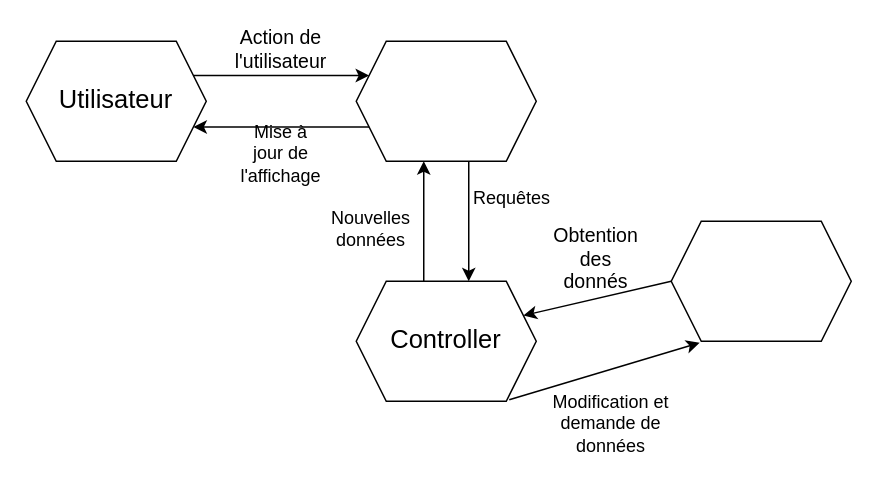
Image size: 878x482. Some labels were removed from this diagram. The box of each missing label's shape, as (x1, y1, x2, y2) in pixels:
Modèle: (670, 220, 851, 341)
Vue: (355, 40, 536, 161)
